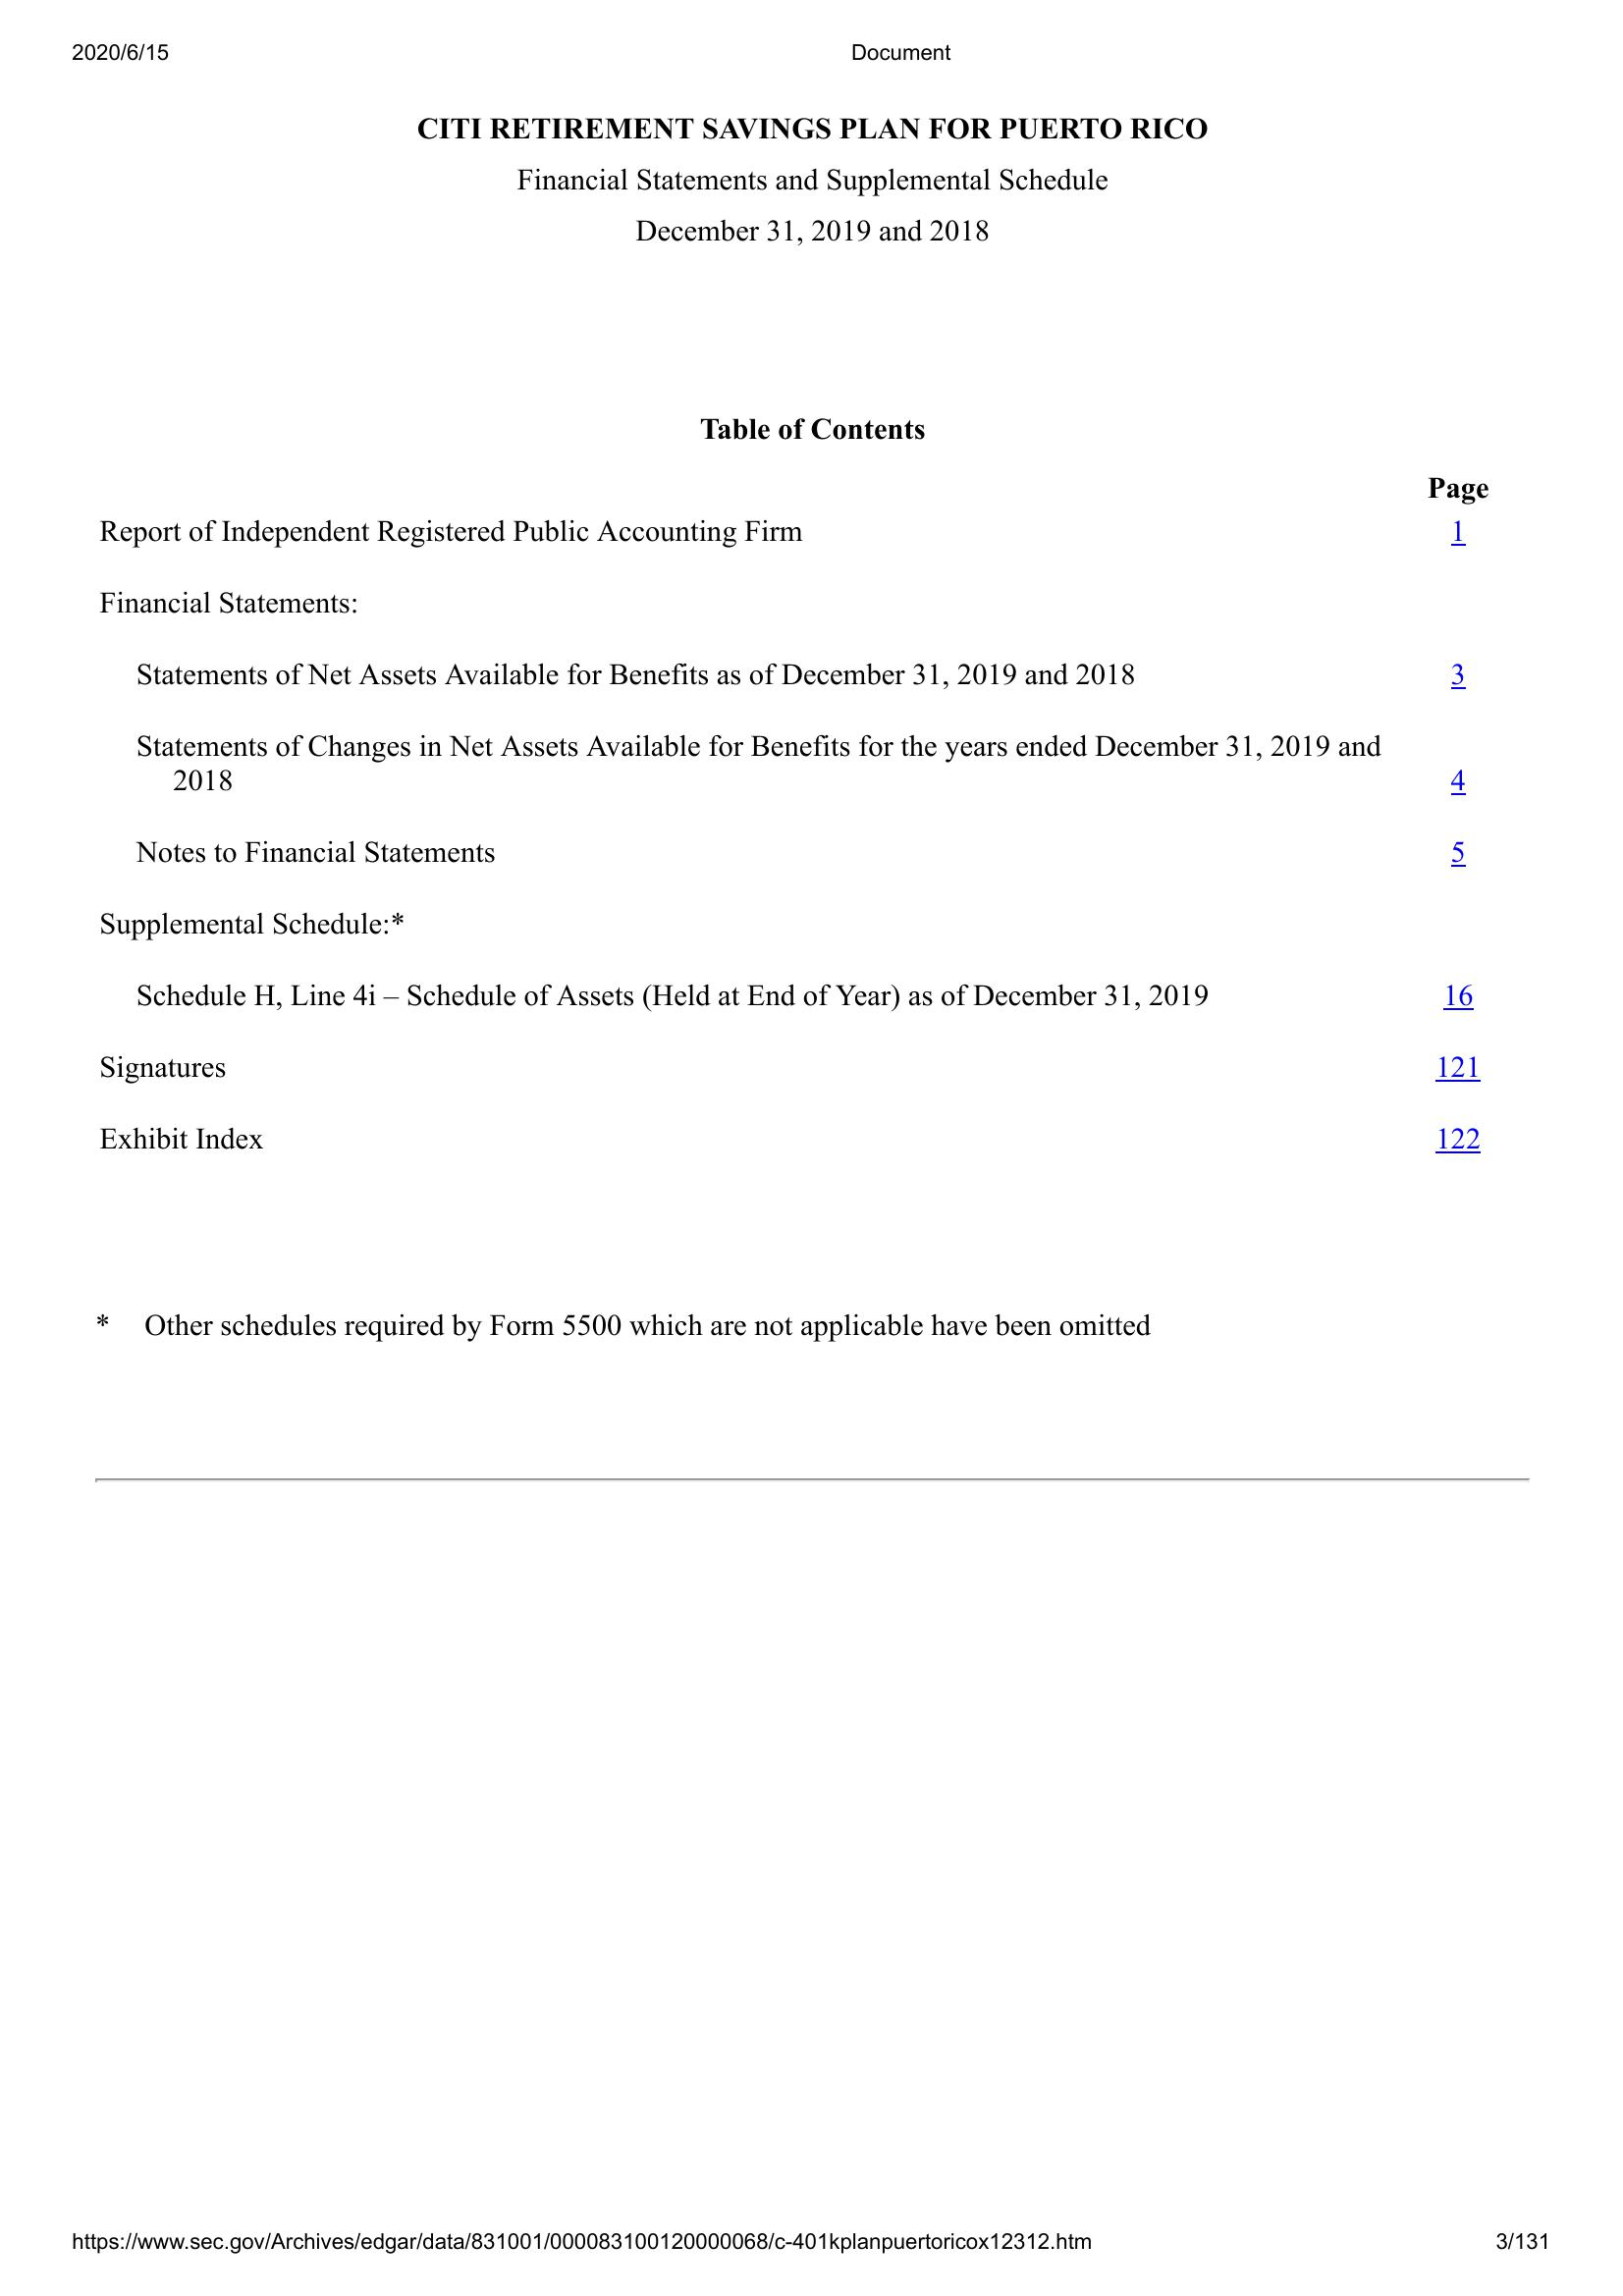table: (86, 416, 1491, 1164)
